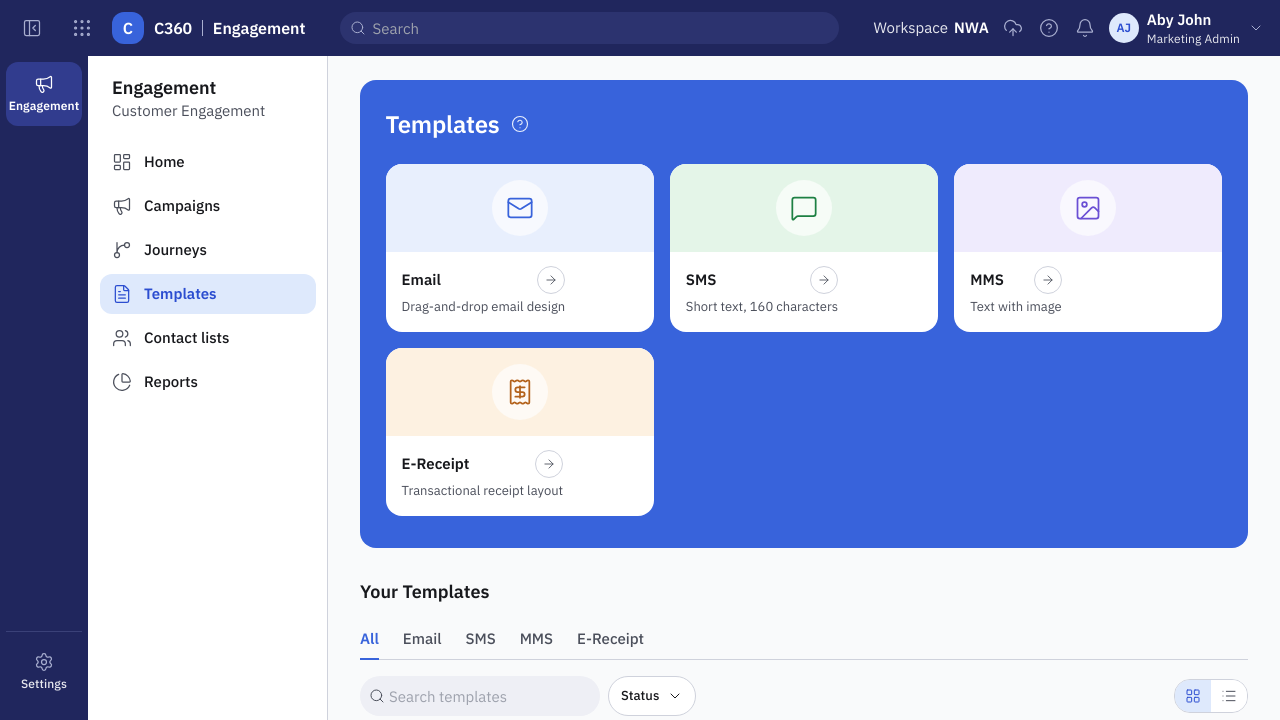
Test: search filters the templates and the presets
Type "retired" into the search field labelled "Search templates".
click(492, 696); type("retired")  # box x1=389 y1=677 x2=595 y2=715
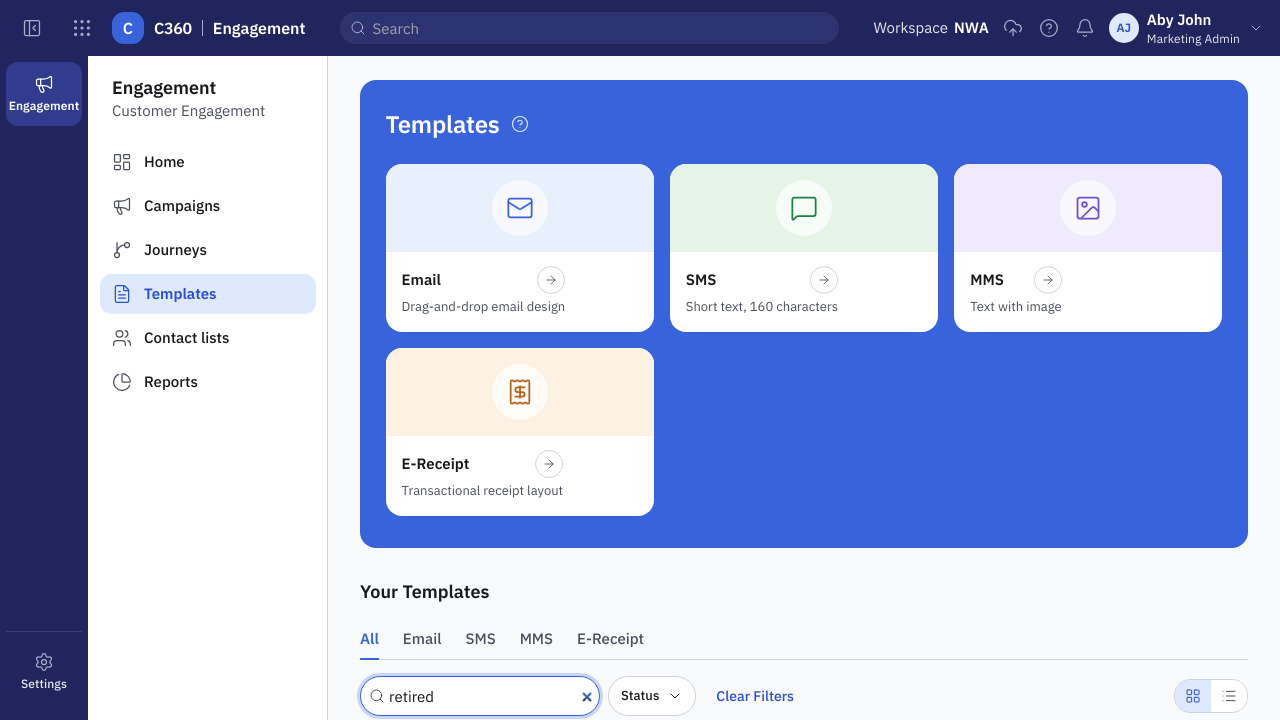
Replace the text in the search field named "Search templates" with "nothing like this" at (492, 696), box x1=389 y1=677 x2=595 y2=715
(page scrolled)
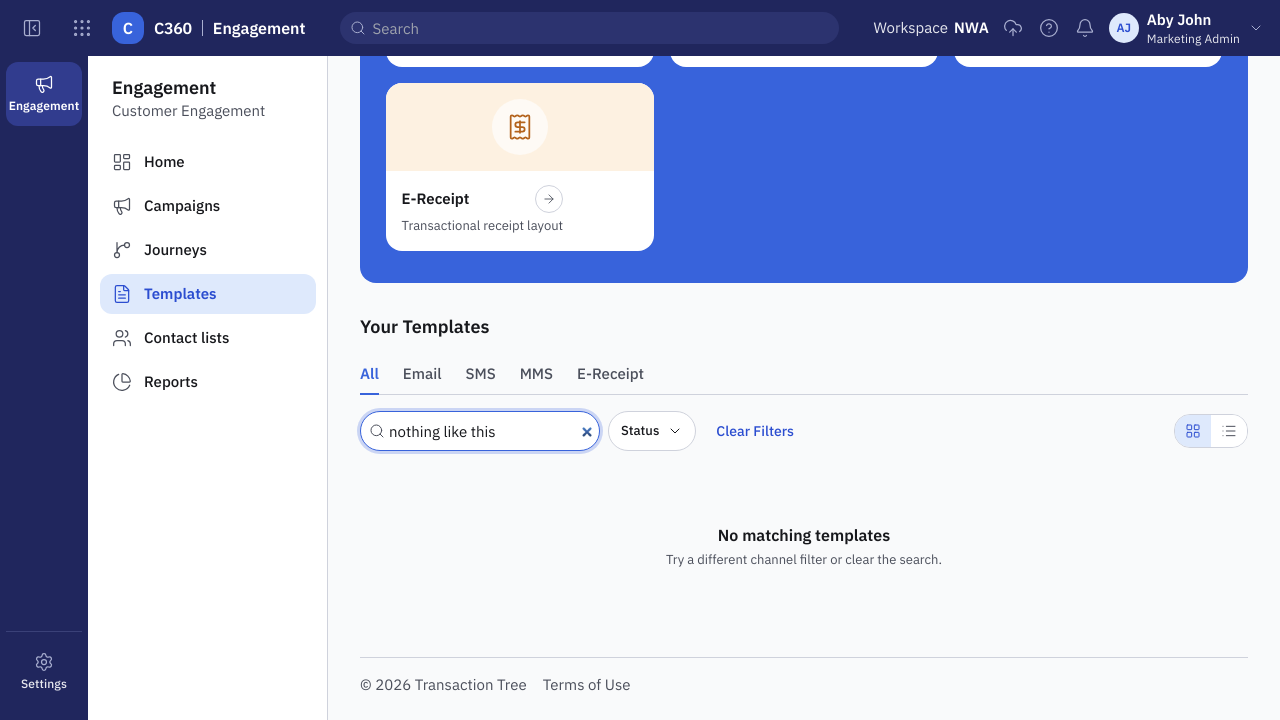
Check: the text "No matching templates" is shown, box x1=718 y1=525 x2=890 y2=545
Check: the text "Try a different channel filter or clear the search." is shown, box x1=666 y1=551 x2=942 y2=568
